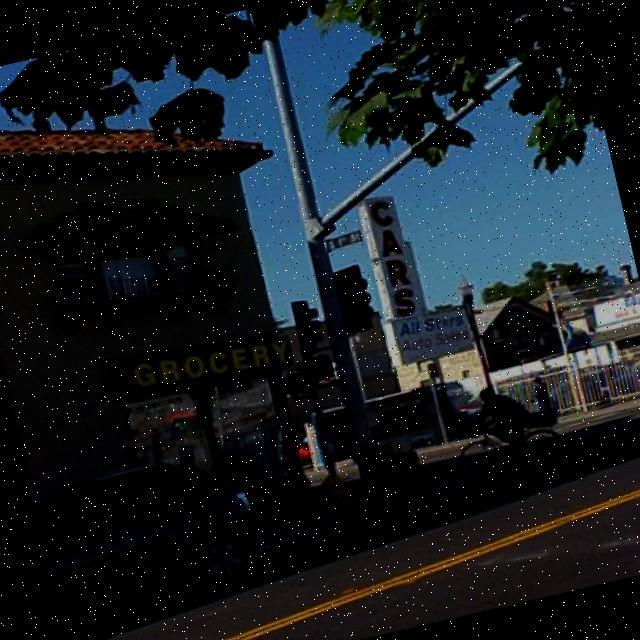fire_hydrant: (316, 466, 358, 525)
